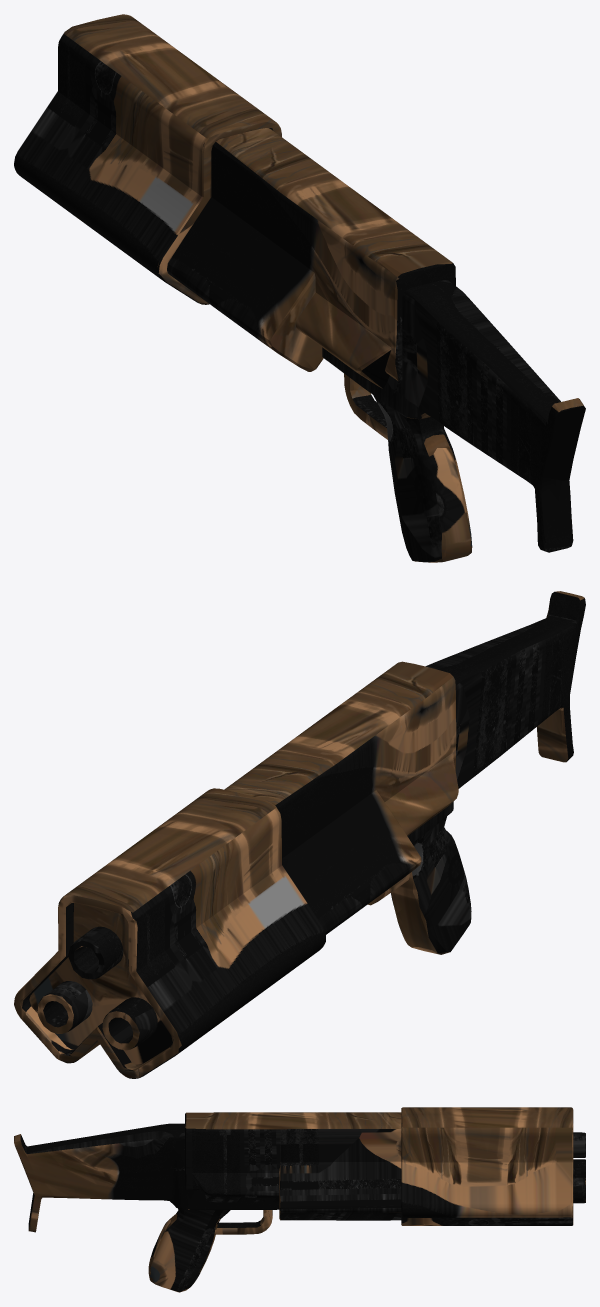
File: shotgun.FBX
3 views of the same model, one above another, from view 1: azimuth 30°, elevation 25°; view 2: azimuth 150°, elevation 25°; view 3: azimuth 270°, elevation 25° (orthographic). The views are drawn at different scales.
Parts seen in each view (by area): view 1: shotgun; view 2: shotgun; view 3: shotgun.
Part boxes in pixels (box(x1,y1,x2,y2)): shotgun: box(14, 14, 585, 562); shotgun: box(14, 591, 585, 1078); shotgun: box(14, 1107, 585, 1292).
Bounding box in the file's own units: 49.9 × 83.73 × 250.
